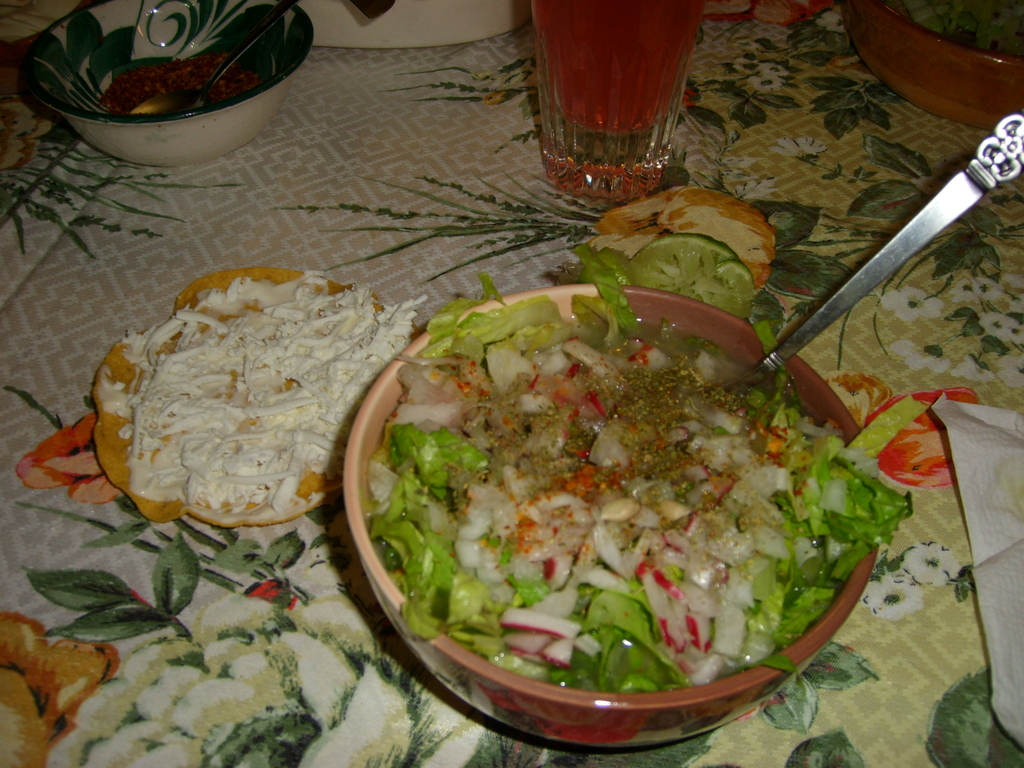salad: (353, 242, 932, 712)
